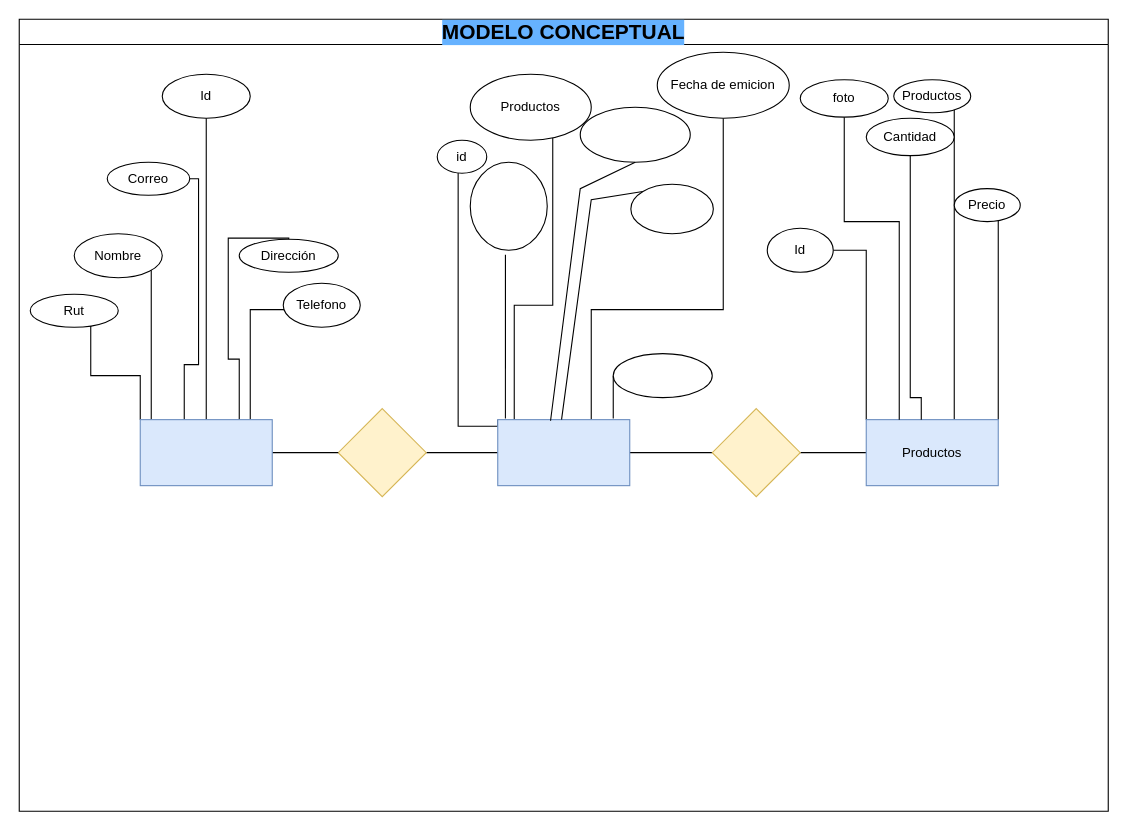
This 1128x831 diagram has some shape labels left out. Here are the shapes that lost their labels. From the top down, the centre of each, then its label:
At [634,134]: "observaciones".
At [508,205]: "Fecha probable de entrega".
At [671,208]: "precio total".
At [662,375]: "Fecha de validez".
At [205,452]: "CLIENTES".
At [381,452]: "solicitud".
At [563,452]: "Presupuesto".
At [755,452]: "Disposición".
